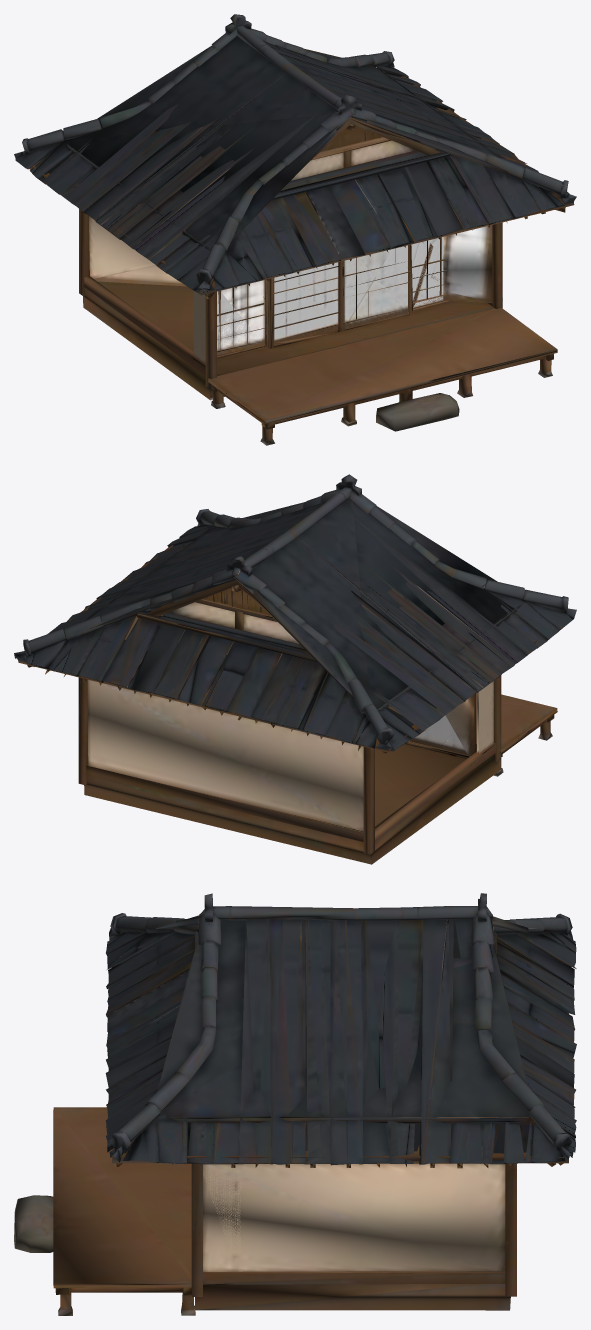
File: house-mobile.glb
3 renders of one model, top to bottom at view 1: azimuth 30°, elevation 25°; view 2: azimuth 150°, elevation 25°; view 3: azimuth 270°, elevation 25°, orthographic. The views are drawn at different scales.
Parts seen in each view (by area): view 1: geometry_0; view 2: geometry_0; view 3: geometry_0.
Part boxes in pixels (x1=…): geometry_0: x1=14, y1=14, x2=576, y2=445; geometry_0: x1=14, y1=474, x2=576, y2=864; geometry_0: x1=14, y1=893, x2=576, y2=1315.
Bounding box in the file's own units: 6.8 × 4.6 × 7.
1 material, 1 textured.
